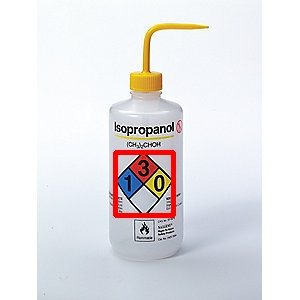nfpa: (115, 152, 173, 215)
